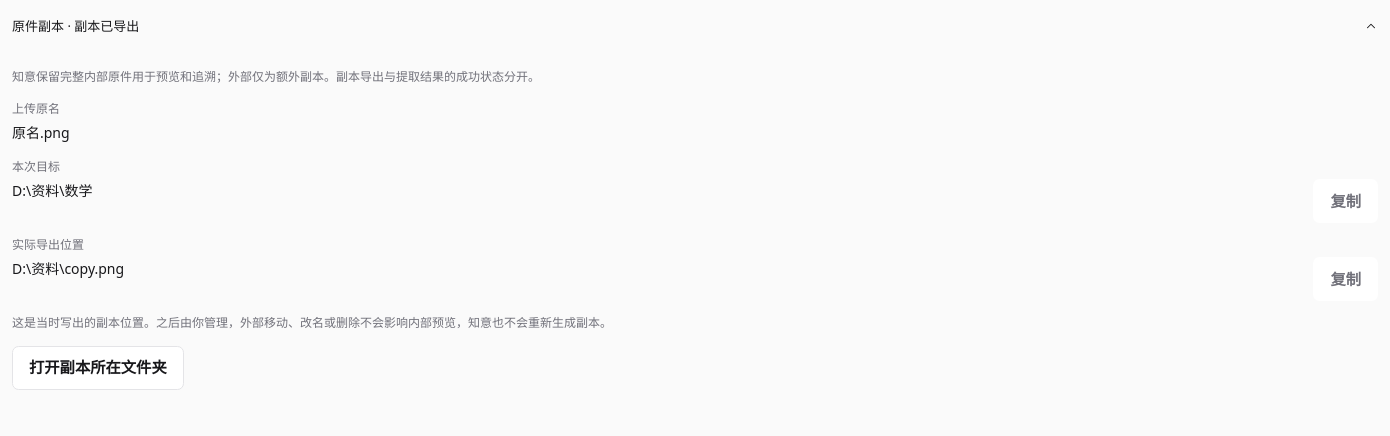
Test: reports a moved external copy without retrying export or changing extraction status
The width and height of the screenshot is (1390, 436).
Click the button "打开副本所在文件夹" at coordinates (98, 368), box [12,346,184,390]
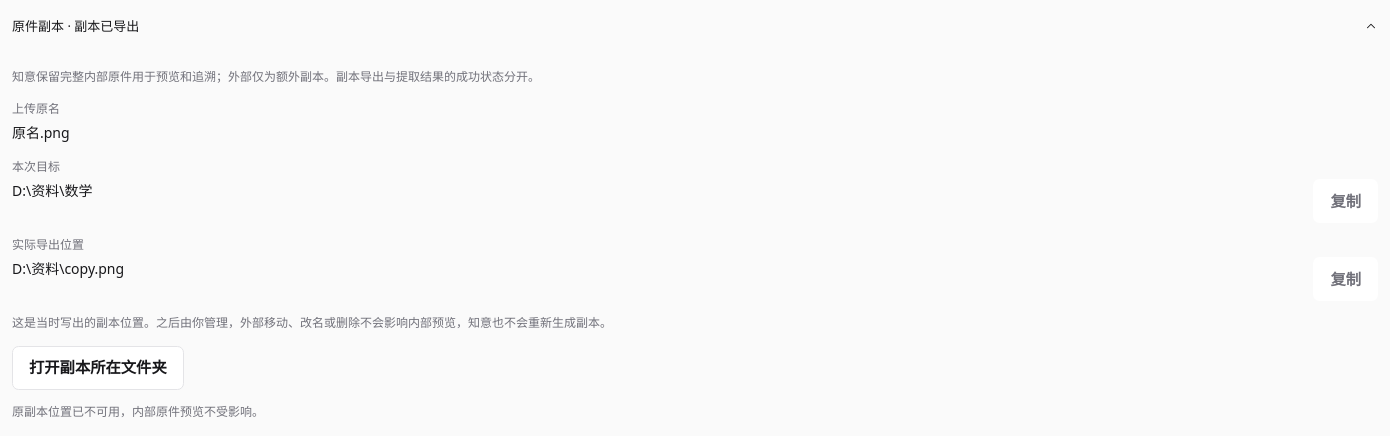
Expected: the text "原件副本 · 副本已导出" is shown, [12,16,139,35]
Now the message shows "内部原件预览不受影响", box [12,403,264,420]
